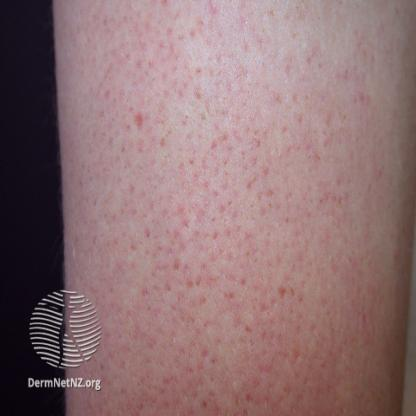Chicken Skin: (98, 14, 368, 414)
